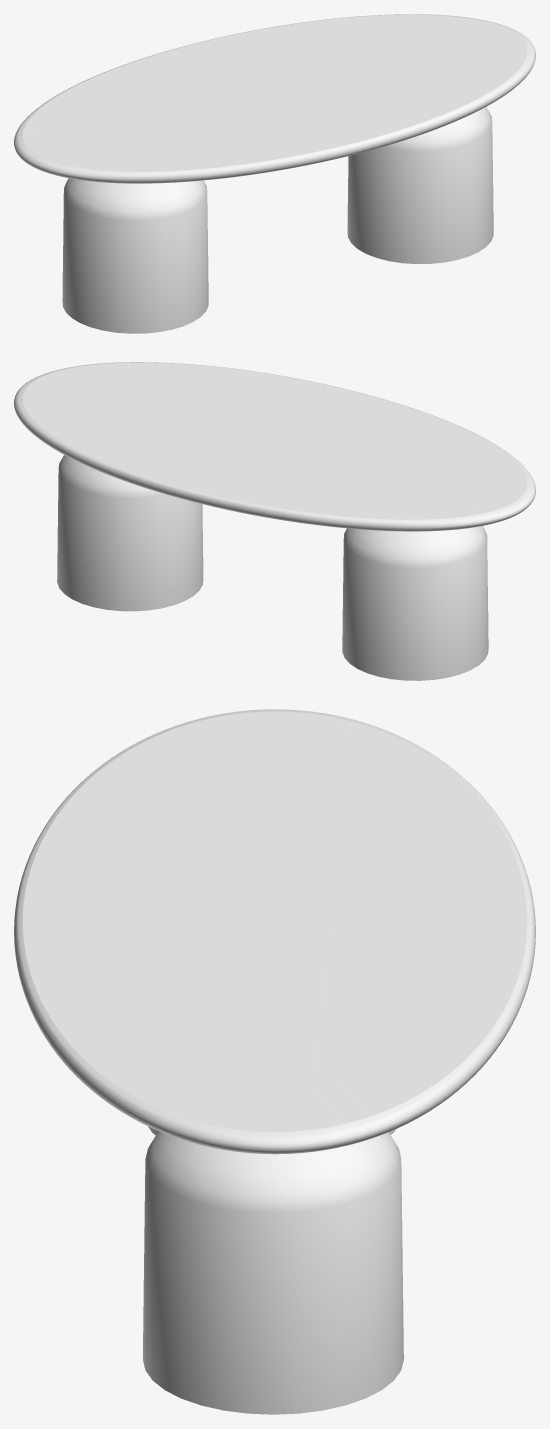
Rendered from purewhite_ellips_round_tornado.glb.
The picture shows the model from 3 angles, top to bottom: view 1: azimuth 30°, elevation 25°; view 2: azimuth 150°, elevation 25°; view 3: azimuth 270°, elevation 25°; orthographic projection. The views are drawn at different scales.
Visible parts, largest first — view 1: round_ellips, tornado; view 2: round_ellips, tornado; view 3: round_ellips, tornado.
Boxes of the visible parts, x1,y1,x2,y2 form: round_ellips: (14, 14, 535, 183); tornado: (62, 107, 493, 333); round_ellips: (14, 362, 535, 531); tornado: (57, 455, 488, 680); round_ellips: (14, 709, 535, 1154); tornado: (142, 1126, 403, 1414).
Bounding box in the file's own units: 7.5 × 2.5 × 3.8.
1 material, 1 textured.
